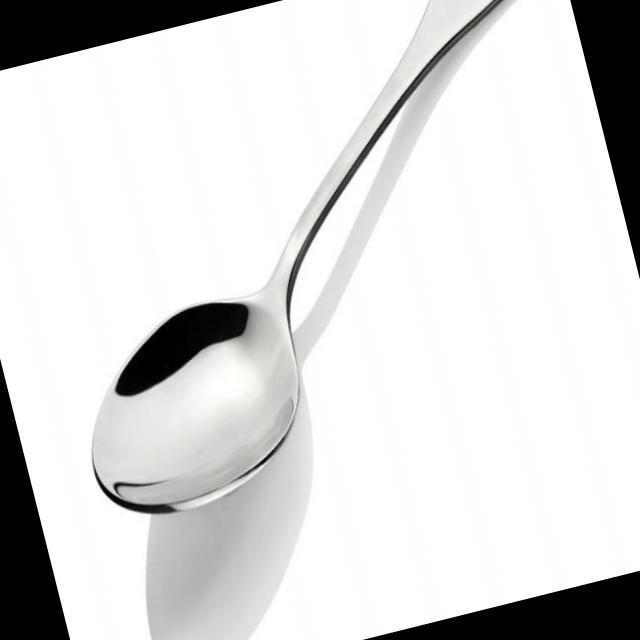spoon: (0, 0, 640, 549)
